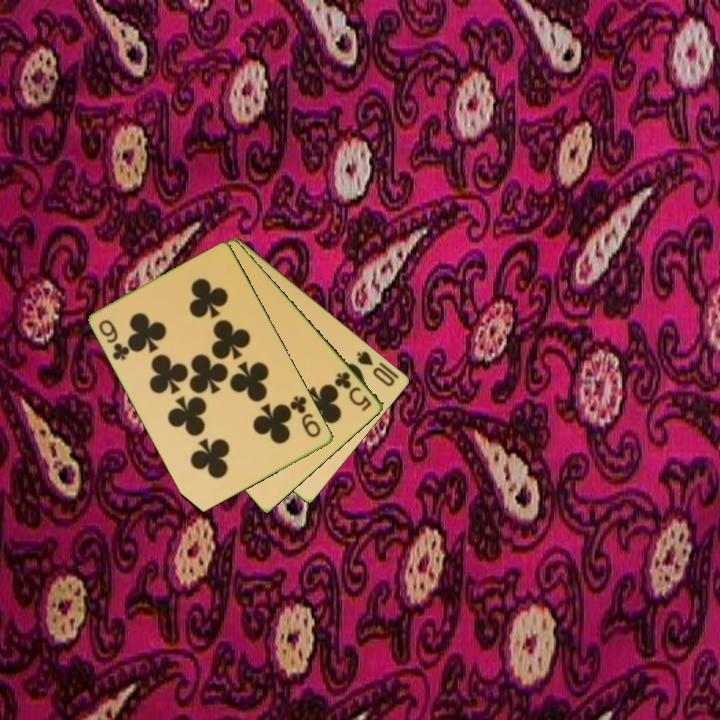10s: (353, 347, 398, 390)
5c: (331, 368, 375, 414)
9c: (95, 316, 133, 363), (287, 393, 324, 441)
